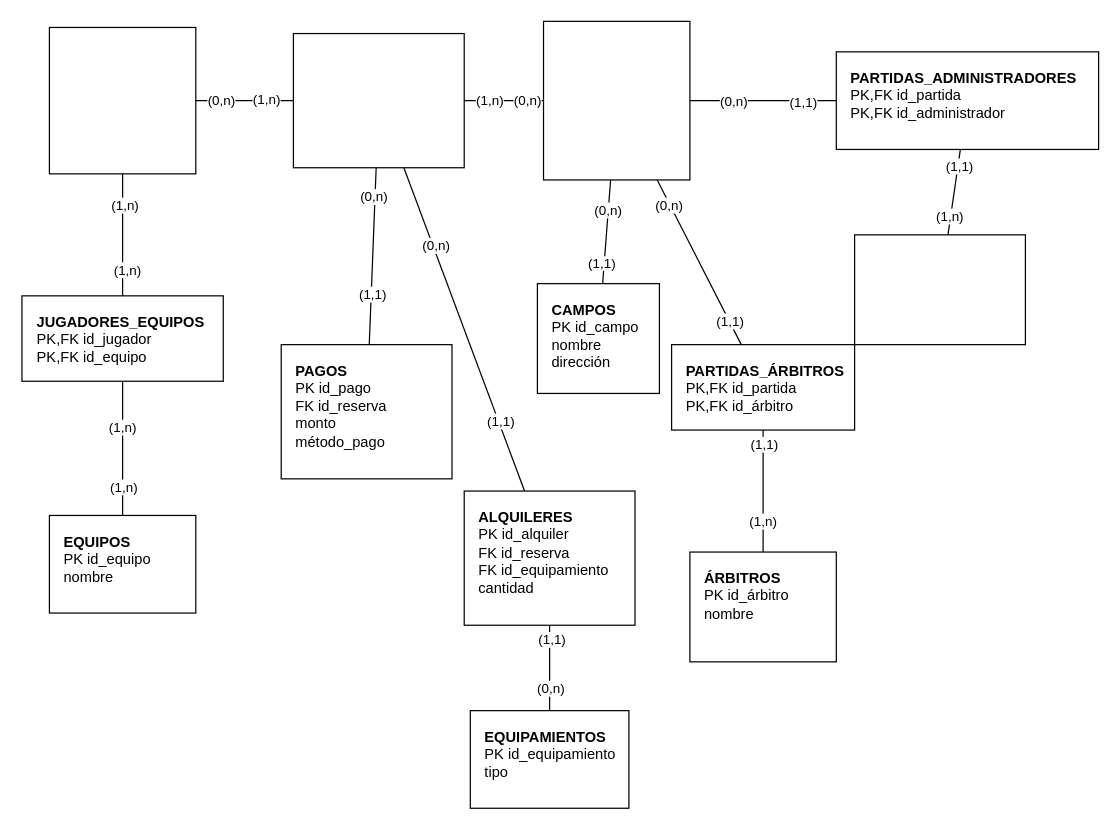
This 1120x830 diagram has some shape labels left out. The shapes that lost their labels are listed below. From the top down, each one's centre as x and y in pixels, then its label:
point (122, 100): JUGADORES PK id_jugador nombre correo celular edad
point (378, 100): RESERVAS PK id_reserva FK id_jugador FK id_partida estado
point (616, 100): PARTIDAS PK id_partida FK id_campo fecha_hora modalidad num_jugadores
point (939, 289): ADMINISTRADORES PK id_administrador nombre
